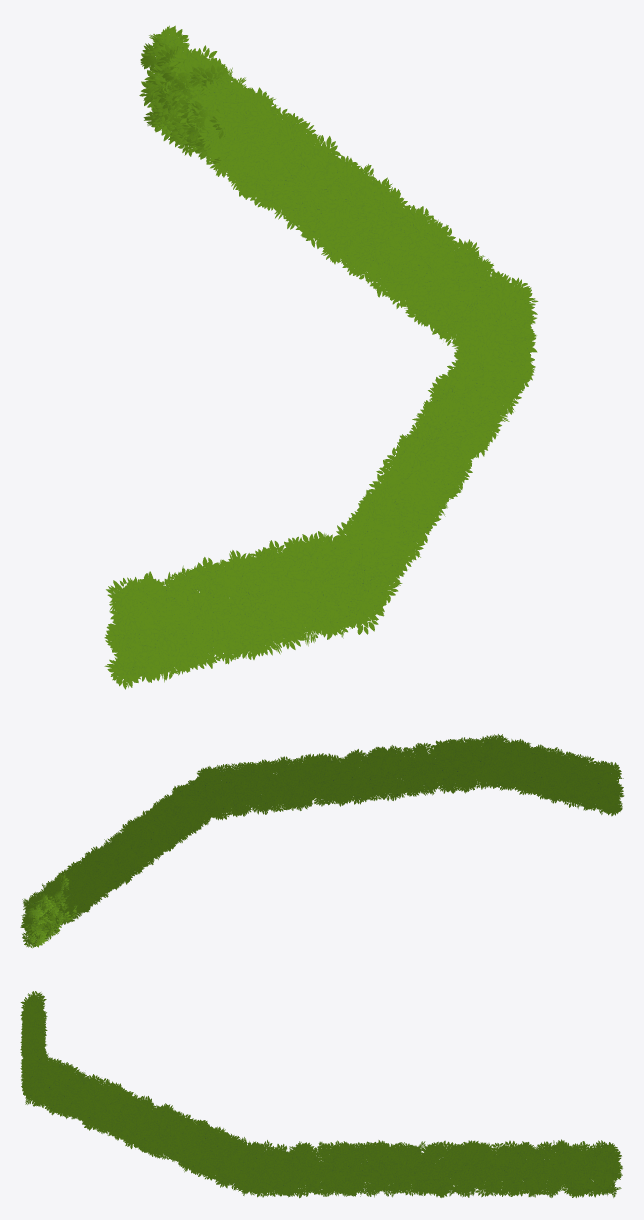
The model's file is Hedge_Small2.fbx.
The picture shows the model from 3 angles, top to bottom: view 1: azimuth 30°, elevation 25°; view 2: azimuth 150°, elevation 25°; view 3: azimuth 270°, elevation 25°; orthographic projection. The views are drawn at different scales.
Parts seen in each view (by area): view 1: Plane.002; view 2: Plane.002; view 3: Plane.002.
Part boxes in pixels (x1=…): Plane.002: x1=104, y1=25, x2=538, y2=689; Plane.002: x1=20, y1=734, x2=624, y2=948; Plane.002: x1=20, y1=991, x2=622, y2=1198.
Size of the model in its own units: 2756 by 520 by 4319.
Materials: 1 (1 with a texture image).
